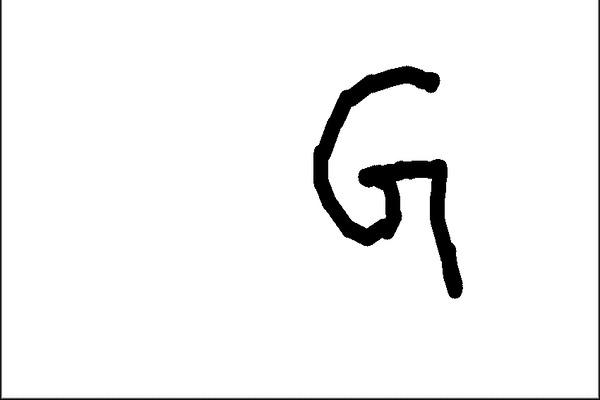G: (307, 61, 469, 303)
